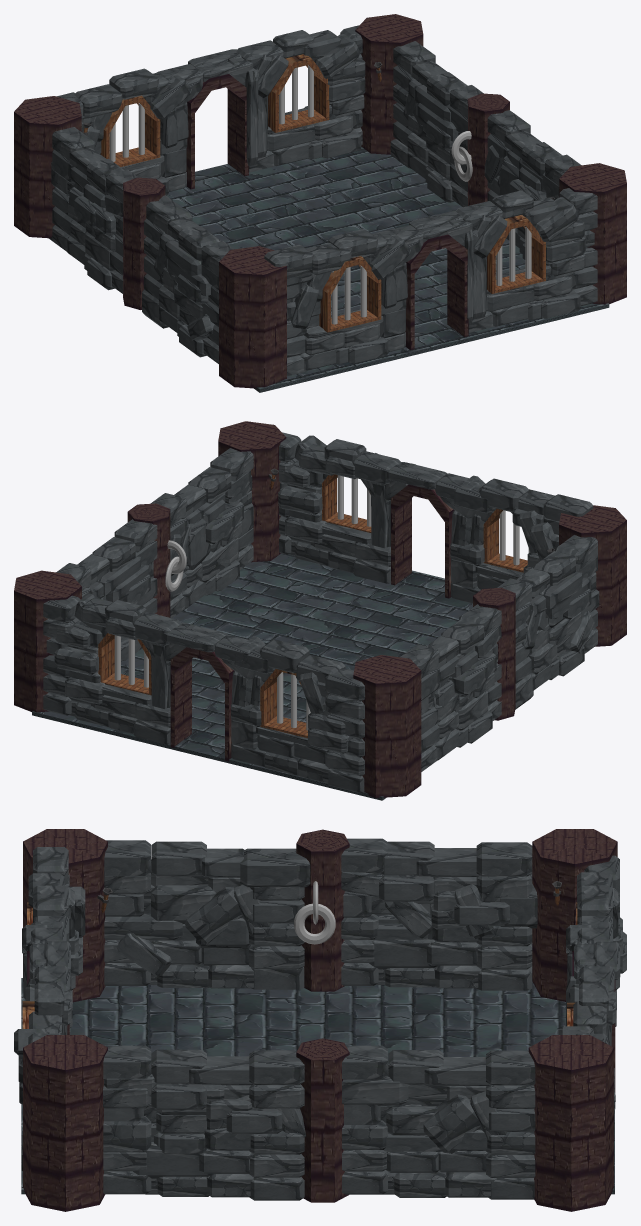
File: room_1FIX.fbx
3 views of the same model, one above another, from view 1: azimuth 30°, elevation 25°; view 2: azimuth 150°, elevation 25°; view 3: azimuth 270°, elevation 25° (orthographic). The views are drawn at different scales.
Parts seen in each view (by area): view 1: pasted__pasted__pasted__pasted__pasted__pasted__pasted__past (×38), pCube10, pasted__pasted__pasted__pasted__pasted__pasted__pasted__pCub (×15), pasted__pasted__pCylinder10, pasted__pasted__pCylinder12, pasted__pasted__pCylinder8, pasted__pasted__pCylinder11, pasted__pasted__pasted__pasted__pasted__pasted__pCube5 (×6), pasted__pasted__pCylinder1, pCube8, pCube9, pasted__pasted__pCylinder9 (+12 smaller); view 2: pCube10, pasted__pasted__pasted__pasted__pasted__pasted__pasted__past (×33), pasted__pasted__pasted__pasted__pasted__pasted__pasted__pCub (×21), pasted__pasted__pCylinder12, pasted__pasted__pasted__pasted__pasted__pasted__pCube5 (×11), pasted__pasted__pCylinder11, pasted__pasted__pasted__pasted__pasted__pCube5 (×8), pasted__pasted__pCylinder10, pasted__pasted__pCylinder8, pasted__pasted__pasted__pasted__pCube5 (×5), pCube9, pCube8 (+9 smaller); view 3: pasted__pasted__pasted__pasted__pasted__pasted__pasted__pCub (×30), pasted__pasted__pasted__pasted__pasted__pasted__pasted__past (×31), pCube10, pasted__pasted__pasted__pasted__pasted__pasted__pCube5 (×22), pasted__pasted__pasted__pasted__pasted__pCube5 (×14), pasted__pasted__pCylinder8, pasted__pasted__pCylinder11, pasted__pasted__pasted__pasted__pCube5 (×12), pasted__pasted__pCylinder12, pasted__pasted__pCylinder9, pasted__pasted__pCylinder10, pasted__pasted__pCylinder1 (+2 smaller).
Part boxes in pixels (left/top/right/bottom): pasted__pasted__pasted__pasted__pasted__pasted__pasted__past (×38): left=148, top=30, right=597, bottom=363; pCube10: left=49, top=147, right=609, bottom=392; pasted__pasted__pasted__pasted__pasted__pasted__pasted__pCub (×15): left=52, top=30, right=557, bottom=311; pasted__pasted__pCylinder10: left=219, top=246, right=286, bottom=388; pasted__pasted__pCylinder12: left=14, top=96, right=81, bottom=238; pasted__pasted__pCylinder8: left=559, top=163, right=626, bottom=304; pasted__pasted__pCylinder11: left=355, top=14, right=423, bottom=154; pasted__pasted__pasted__pasted__pasted__pasted__pCube5 (×6): left=87, top=84, right=450, bottom=276; pasted__pasted__pCylinder1: left=123, top=177, right=165, bottom=309; pCube8: left=405, top=234, right=468, bottom=350; pCube9: left=186, top=74, right=248, bottom=189; pasted__pasted__pCylinder9: left=467, top=93, right=509, bottom=205; pCube10: left=32, top=553, right=472, bottom=800; pasted__pasted__pasted__pasted__pasted__pasted__pasted__past (×33): left=43, top=439, right=581, bottom=775; pasted__pasted__pasted__pasted__pasted__pasted__pasted__pCub (×21): left=65, top=444, right=593, bottom=726; pasted__pasted__pCylinder12: left=353, top=655, right=421, bottom=798; pasted__pasted__pasted__pasted__pasted__pasted__pCube5 (×11): left=55, top=535, right=597, bottom=783; pasted__pasted__pCylinder11: left=14, top=570, right=81, bottom=712; pasted__pasted__pasted__pasted__pasted__pCube5 (×8): left=43, top=564, right=595, bottom=757; pasted__pasted__pCylinder10: left=559, top=505, right=626, bottom=646; pasted__pasted__pCylinder8: left=218, top=421, right=286, bottom=562; pasted__pasted__pasted__pasted__pCube5 (×5): left=231, top=643, right=557, bottom=793; pCube9: left=170, top=647, right=234, bottom=761; pCube8: left=391, top=484, right=453, bottom=598; pasted__pasted__pasted__pasted__pasted__pasted__pasted__pCub (×30): left=28, top=838, right=619, bottom=1197; pasted__pasted__pasted__pasted__pasted__pasted__pasted__past (×31): left=31, top=884, right=620, bottom=1197; pCube10: left=21, top=978, right=614, bottom=1194; pasted__pasted__pasted__pasted__pasted__pasted__pCube5 (×22): left=104, top=840, right=535, bottom=1197; pasted__pasted__pasted__pasted__pasted__pCube5 (×14): left=103, top=859, right=535, bottom=1177; pasted__pasted__pCylinder8: left=23, top=1035, right=107, bottom=1211; pasted__pasted__pCylinder11: left=528, top=1035, right=613, bottom=1211; pasted__pasted__pasted__pasted__pCube5 (×12): left=103, top=877, right=535, bottom=1200; pasted__pasted__pCylinder12: left=532, top=829, right=617, bottom=1001; pasted__pasted__pCylinder9: left=296, top=1038, right=349, bottom=1202; pasted__pasted__pCylinder10: left=23, top=829, right=107, bottom=1002; pasted__pasted__pCylinder1: left=296, top=829, right=349, bottom=991.
Bounding box in the file's own units: 0.2097 × 0.0637 × 0.2246.
Materials: 9 (7 with a texture image).
